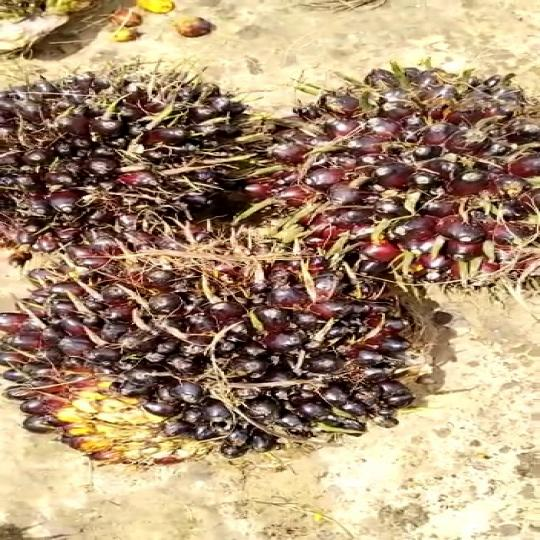mentah: (0, 248, 442, 471), (252, 61, 540, 302), (0, 53, 248, 250)
